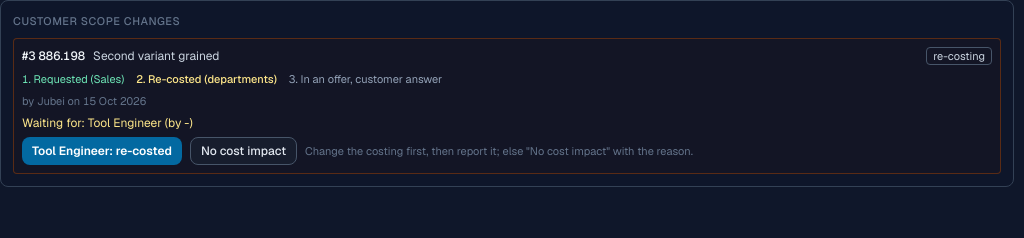
Test: ScopeChangeCards (§6 [R3]) › no cost impact needs a sentence saying why (R4)
Later steps or results of the test are not shown.
Click the button with test id "scope-nocost-open-3-21" at (244, 150), box 190,136 -> 297,164
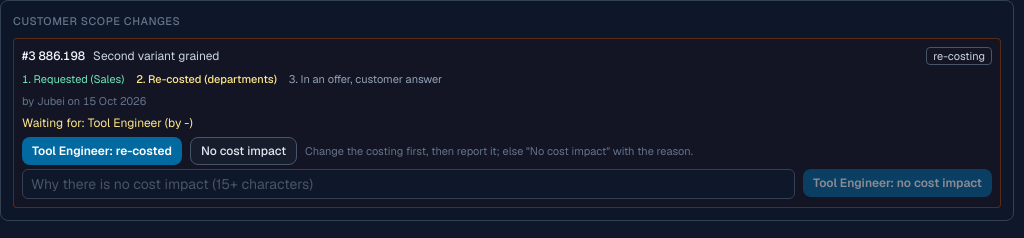
Type "same insert" into the field with test id "scope-nocost-note-3-21" at (409, 184), box 22,168 -> 795,198
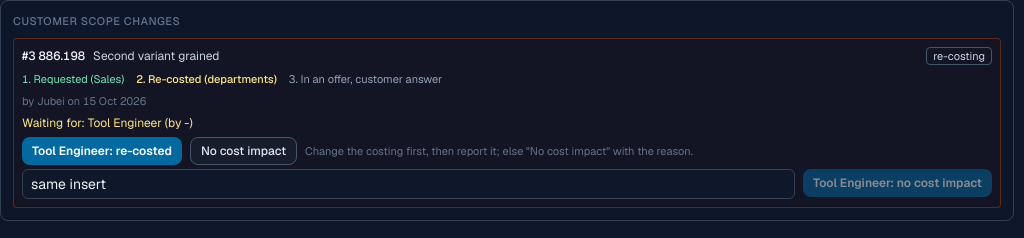
Expected: the button with test id "scope-nocost-3-21" is disabled, 803,168 -> 992,196
